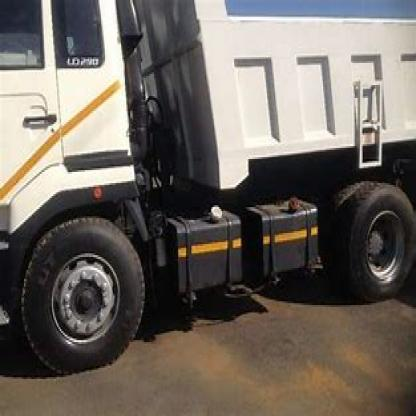dump_truck: (1, 0, 415, 381)
